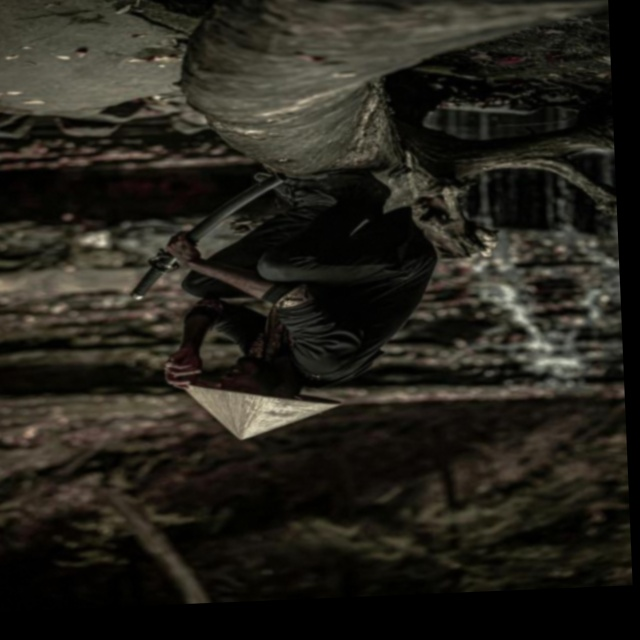Sharp-Object: (129, 165, 289, 312)
